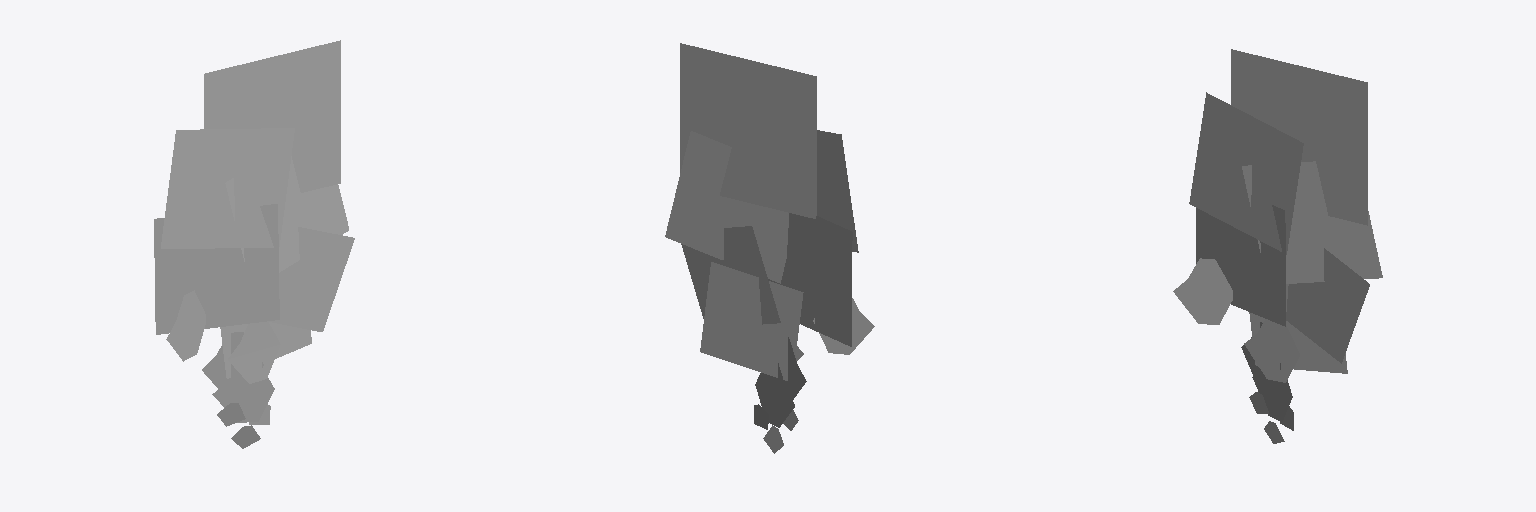
The model's file is Prop_Vine2.obj.
The picture shows the model from 3 angles: view 1: azimuth 30°, elevation 25°; view 2: azimuth 150°, elevation 25°; view 3: azimuth 330°, elevation 25°; orthographic projection.
Parts seen in each view (by area): view 1: Prop_Vine2; view 2: Prop_Vine2; view 3: Prop_Vine2.
Part boxes in pixels (x1,y1,x2,y2): Prop_Vine2: (154, 40, 354, 448); Prop_Vine2: (665, 43, 874, 453); Prop_Vine2: (1173, 49, 1382, 443).
Size of the model in its own units: 1.39 by 2.6 by 0.2138.